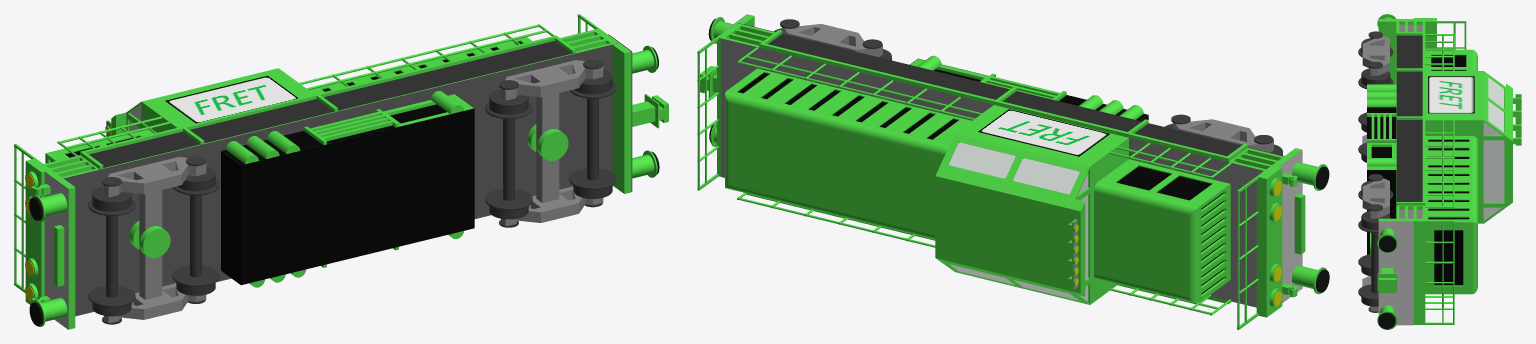
The model's file is train_fret.fbx.
3 views of the same model, side by side, from view 1: azimuth 30°, elevation 25°; view 2: azimuth 150°, elevation 25°; view 3: azimuth 270°, elevation 25° (orthographic). The views are drawn at different scales.
Parts seen in each view (by area): view 1: train_fret, DessousMoteur, DessousTrain, CoteDroitTrain, partie_centrale_bogieArriere, partie_centrale_bogieAvant, roue_bogie.002, roue_bogie, PanneauFretDroit, roue_bogie.003, roue_bogie.001, MoteurDessousPartieAvant (+3 smaller); view 2: train_fret, Sol, CoteDroitTrain, PanneauFretDroit, MoteurCoteDroit, VitreCoteDroit, Pare-ChocAvant, partie_centrale_bogieArriere, partie_centrale_bogieAvant, VitreCotreGauche, VitreAvant; view 3: train_fret, CoteDroitTrain, Pare-ChocArriere, PanneauFretDroit, VitreArriere, GrilleMoteurArriere, roue_bogie.003, MoteurCoteDroit, partie_centrale_bogieArriere, partie_centrale_bogieAvant, VitreCoteDroit, roue_bogie.001 (+9 smaller).
Boxes of the visible parts, <box> form: train_fret: <box>14,14,668,329</box>; DessousMoteur: <box>241,108,474,285</box>; DessousTrain: <box>62,43,617,316</box>; CoteDroitTrain: <box>89,41,571,167</box>; partie_centrale_bogieArriere: <box>501,60,603,226</box>; partie_centrale_bogieAvant: <box>104,157,206,323</box>; roue_bogie.002: <box>485,80,532,227</box>; roue_bogie: <box>88,177,135,324</box>; PanneauFretDroit: <box>165,75,298,123</box>; roue_bogie.003: <box>569,59,616,207</box>; roue_bogie.001: <box>172,156,219,303</box>; MoteurDessousPartieAvant: <box>221,151,240,284</box>; train_fret: <box>697,14,1327,329</box>; Sol: <box>721,38,1261,307</box>; CoteDroitTrain: <box>768,34,1240,156</box>; PanneauFretDroit: <box>978,109,1109,156</box>; MoteurCoteDroit: <box>738,73,1211,200</box>; VitreCoteDroit: <box>949,142,1079,194</box>; Pare-ChocAvant: <box>1279,150,1302,302</box>; partie_centrale_bogieArriere: <box>782,24,882,57</box>; partie_centrale_bogieAvant: <box>1173,119,1273,152</box>; VitreCotreGauche: <box>949,264,1078,300</box>; VitreAvant: <box>1078,173,1088,301</box>; train_fret: <box>1367,14,1521,329</box>; CoteDroitTrain: <box>1396,35,1422,201</box>; Pare-ChocArriere: <box>1378,221,1413,325</box>; PanneauFretDroit: <box>1428,76,1474,113</box>; VitreArriere: <box>1483,122,1504,220</box>; GrilleMoteurArriere: <box>1434,230,1463,285</box>; roue_bogie.003: <box>1358,204,1390,312</box>; MoteurCoteDroit: <box>1428,55,1469,219</box>; partie_centrale_bogieArriere: <box>1362,178,1389,311</box>; partie_centrale_bogieAvant: <box>1362,35,1389,143</box>; VitreCoteDroit: <box>1488,77,1503,131</box>; roue_bogie.001: <box>1358,61,1393,162</box>.
Size of the model in its own units: 9150 by 2060 by 2802.
